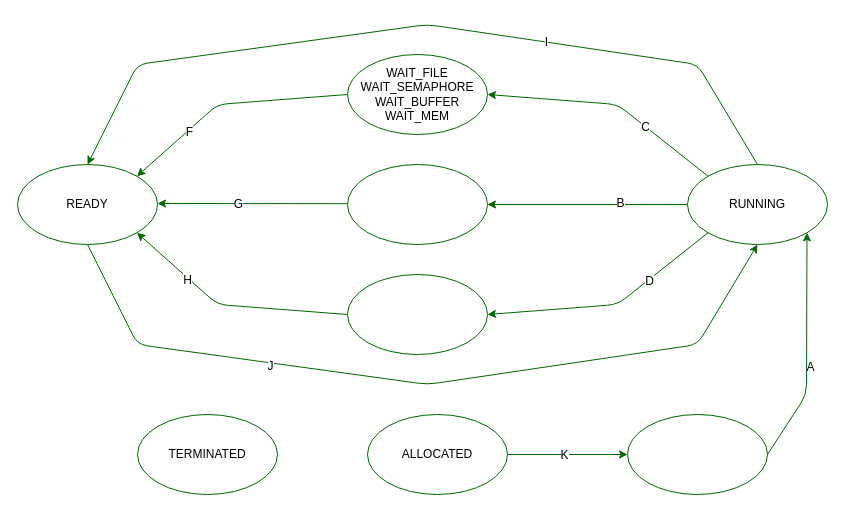
Some shapes in this 845 by 512 pixel diagram are drawn without their labels. Here are the shapes that lost their labels. From the top down, the centre of each, then its label:
point (417, 204): WAIT_DISK WAIT_TERMINAL
point (417, 314): WAIT_PROCESS
point (697, 454): CREATED
